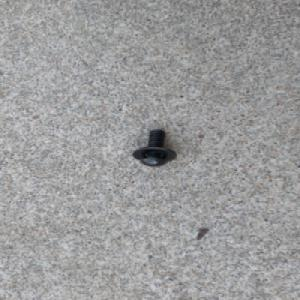BoltWasher: (132, 128, 177, 168)
